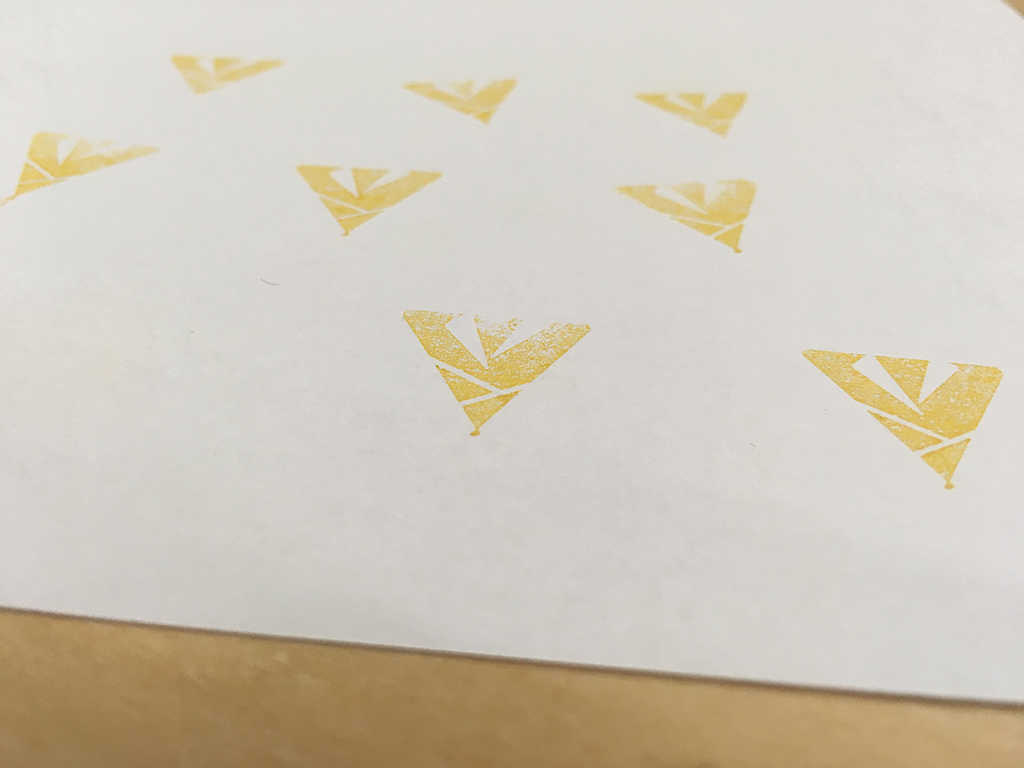tent: (793, 337, 1012, 500), (386, 296, 600, 448), (605, 164, 766, 261), (1, 124, 163, 215), (285, 155, 449, 241), (160, 47, 293, 107), (634, 81, 752, 148), (393, 72, 522, 129)
